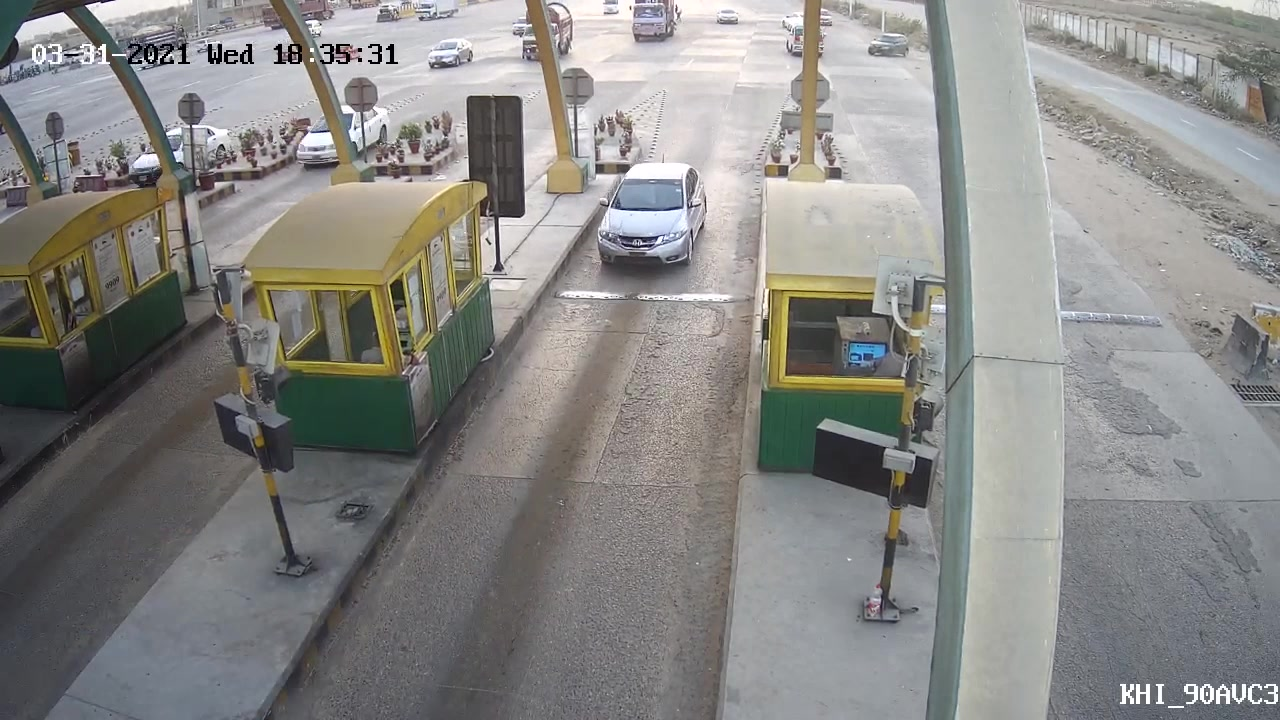F1: (575, 157, 716, 276)
